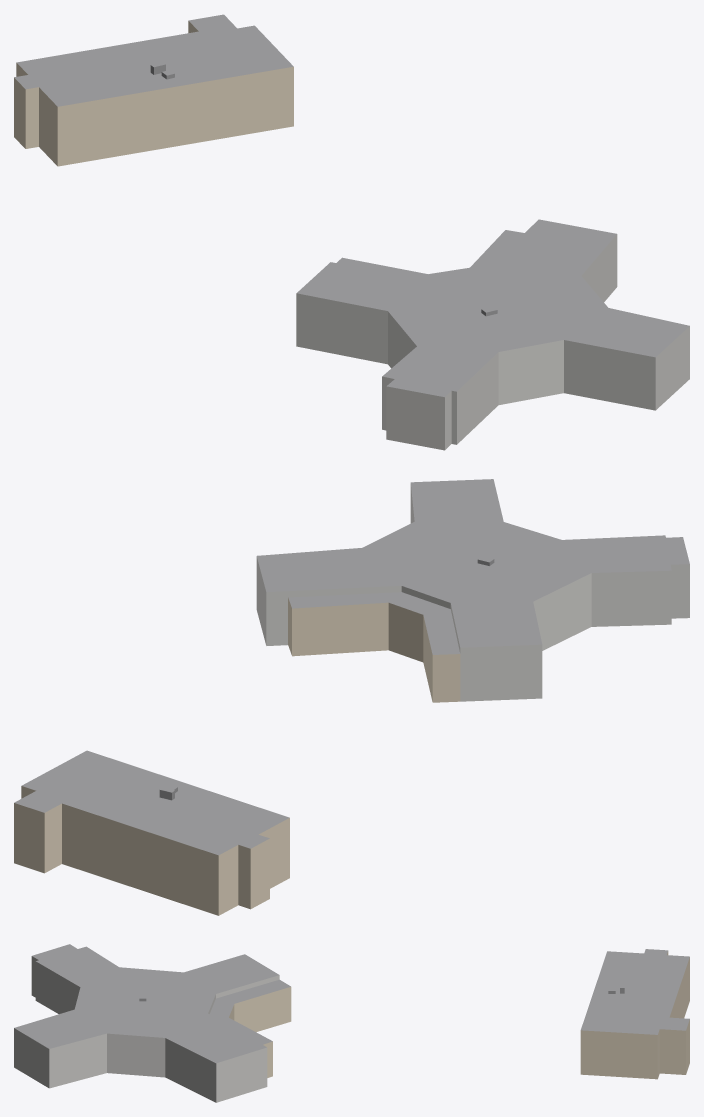
The model's file is building_5_-5.glb.
3 views of the same model, one above another, from view 1: azimuth 30°, elevation 25°; view 2: azimuth 150°, elevation 25°; view 3: azimuth 270°, elevation 25° (orthographic). The views are drawn at different scales.
Parts seen in each view (by area): view 1: roof, concrete_light, sandstone; view 2: roof, sandstone, concrete_light; view 3: roof, concrete_light, sandstone.
Part boxes in pixels (box(x1,y1,x2,y2)): roof: box(14, 14, 689, 397); concrete_light: box(296, 234, 689, 450); sandstone: box(14, 21, 293, 166); roof: box(14, 479, 689, 855); sandstone: box(14, 597, 460, 915); concrete_light: box(256, 484, 689, 701); roof: box(14, 944, 689, 1063); concrete_light: box(14, 956, 279, 1102); sandstone: box(229, 951, 689, 1079).
Bounding box in the file's own units: 80.81 × 15.8 × 194.
